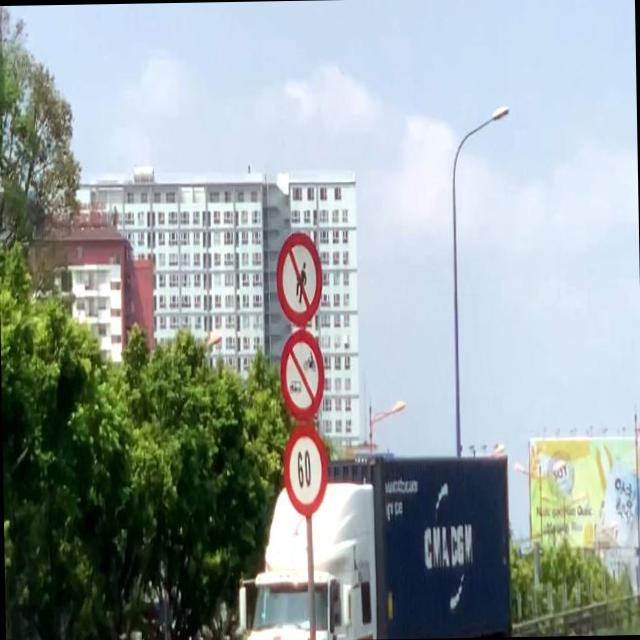P-104: (279, 330, 325, 422)
P-112: (274, 233, 324, 326)
P-127: (282, 424, 327, 517)
